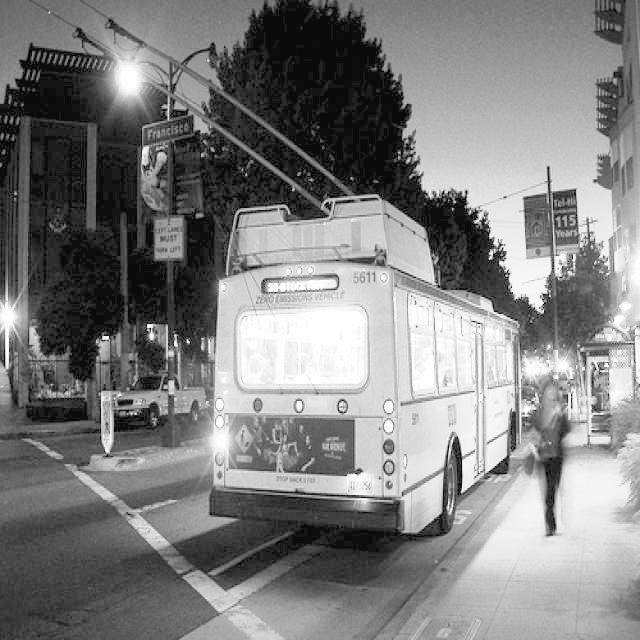Bus: (209, 183, 526, 542)
Car: (119, 364, 213, 431)
